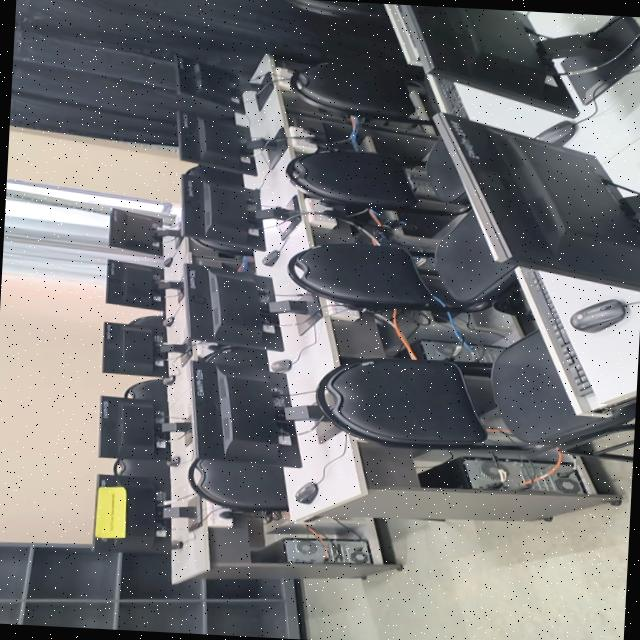Chair: (317, 331, 636, 453), (288, 211, 519, 315), (286, 138, 471, 213), (290, 62, 415, 122), (190, 458, 287, 511), (115, 459, 170, 494), (287, 0, 387, 19), (199, 346, 268, 369), (124, 379, 167, 413), (128, 315, 165, 328)
Cpu: (463, 456, 589, 492), (282, 537, 353, 563), (354, 542, 369, 562)
Keyboard: (524, 269, 594, 396)
Monitor: (434, 113, 640, 291), (391, 4, 608, 118), (191, 359, 302, 467), (184, 263, 284, 351), (182, 166, 265, 252), (92, 474, 171, 551), (177, 110, 257, 175), (102, 320, 185, 376), (98, 396, 168, 458), (174, 54, 243, 112), (106, 259, 183, 310), (109, 207, 162, 255)
Mouse: (570, 299, 626, 332), (535, 120, 576, 145), (295, 481, 318, 503), (262, 249, 279, 266), (271, 359, 290, 372), (166, 456, 180, 466), (163, 315, 173, 328), (163, 375, 175, 385), (164, 256, 172, 267)
